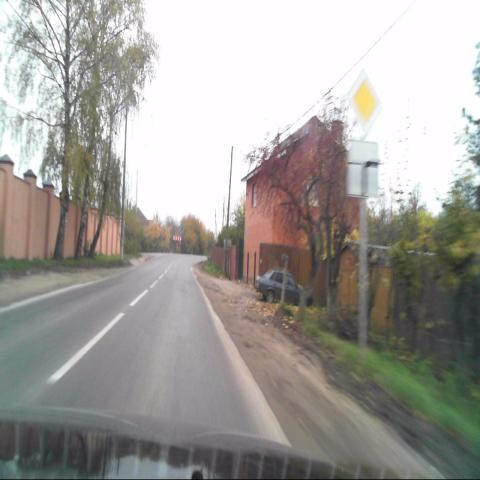8_13: (345, 141, 378, 197)
